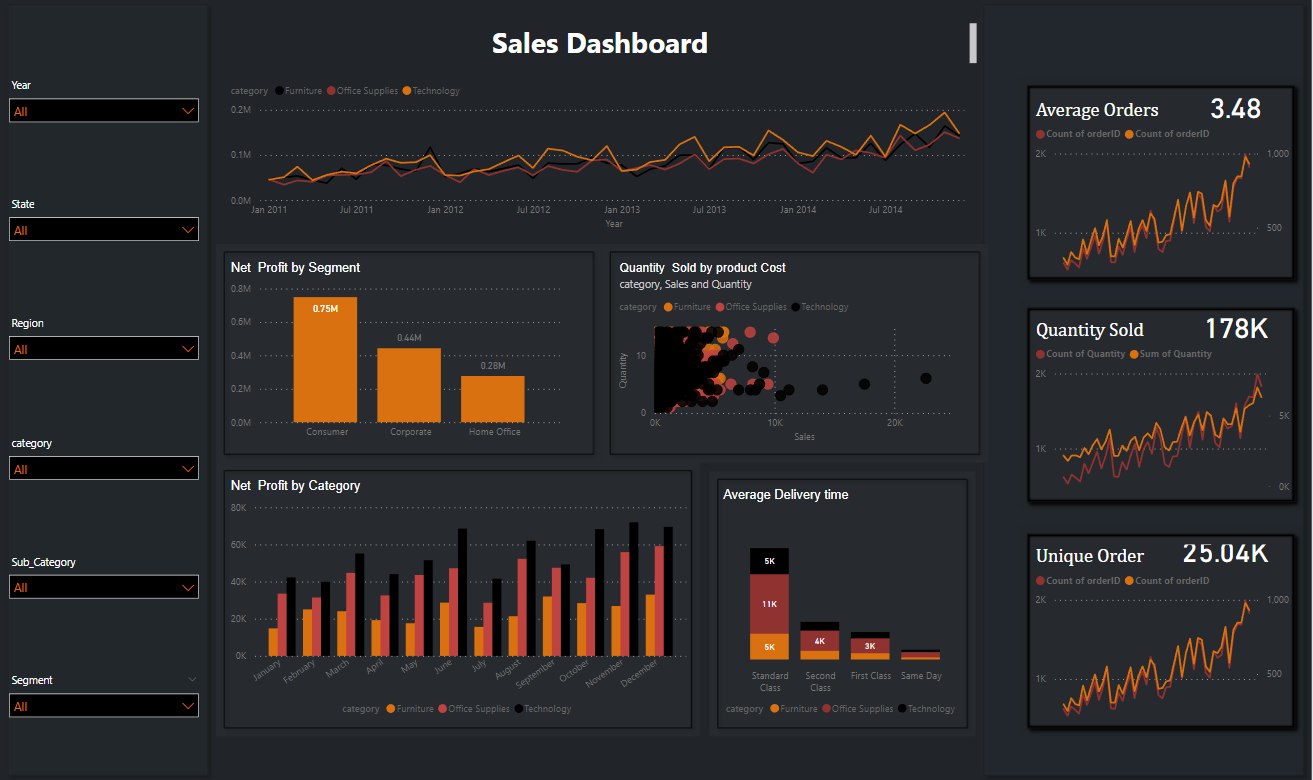

Layout of this report page (visuals, bound fields, positions):
{"tool":"powerbi","page":{"name":"Page 1","canvas":[1500,900],"ordinal":0},"visuals":[{"type":"textbox","box":[258.6,22.9,862.9,62.9],"z":0},{"type":"textbox","box":[258.6,291.4,300,51.4],"z":1000},{"type":"textbox","box":[258.6,541.4,300,51.4],"z":2000},{"type":"textbox","box":[702.9,291.4,300,51.4],"z":3000},{"type":"textbox","box":[821.4,551.4,300,51.4],"z":4000},{"type":"textbox","box":[1178.6,618.6,300,54.3],"z":5000},{"type":"textbox","box":[1178.6,360,300,54.3],"z":6000},{"type":"textbox","box":[1178.6,108.6,300,54.3],"z":7000},{"type":"columnChart","fields":{"Category":["Customer.Segment"],"Y":["Sum(FOrder.profit)"]},"box":[258.6,317.1,388.6,194.3],"z":8000},{"type":"lineClusteredColumnComboChart","fields":{"Category":["Data.orderDate.Variation.Date Hierarchy.Month"],"Y":["Sum(FOrder.profit)"],"Series":["product.category"]},"box":[258.6,567.1,531.4,261.4],"z":9000},{"type":"scatterChart","fields":{"Series":["product.category"],"Y":["FOrder.Quantity"],"X":["FOrder.Sales"]},"box":[702.9,317.1,401.4,194.3],"z":10000},{"type":"columnChart","fields":{"Category":["FOrder.ShipMode"],"Series":["product.category"],"Y":["FOrder.Count of orderID average per ShipMode"]},"box":[821.4,592.9,282.9,235.7],"z":11000},{"type":"lineChart","fields":{"Y":["CountNonNull(FOrder.orderID)"],"Y2":["Count(FOrder.orderID)"],"Category":["Data.orderDate.Variation.Date Hierarchy.Year","Data.orderDate.Variation.Date Hierarchy.Month"]},"box":[1178.6,645.7,300,182.9],"z":12000},{"type":"card","fields":{"Values":["Count(FOrder.orderID)"]},"box":[1322.9,618.6,155.7,42.9],"z":13000},{"type":"lineChart","fields":{"Y":["CountNonNull(FOrder.Quantity)"],"Y2":["Sum(FOrder.Quantity)"],"Category":["Data.orderDate.Variation.Date Hierarchy.Year","Data.orderDate.Variation.Date Hierarchy.Quarter","Data.orderDate.Variation.Date Hierarchy.Month"]},"box":[1178.6,387.1,300,182.9],"z":14000},{"type":"lineChart","fields":{"Y":["CountNonNull(FOrder.orderID)"],"Y2":["Count(FOrder.orderID)"],"Category":["Data.orderDate.Variation.Date Hierarchy.Year","Data.orderDate.Variation.Date Hierarchy.Quarter","Data.orderDate.Variation.Date Hierarchy.Month"]},"box":[1178.6,135.7,300,182.9],"z":15000},{"type":"card","fields":{"Values":["Sum(FOrder.Quantity)"]},"box":[1345.7,360,132.9,48.6],"z":16000},{"type":"card","fields":{"Values":["Avg(FOrder.Quantity)"]},"box":[1345.7,108.6,132.9,48.6],"z":17000},{"type":"slicer","fields":{"Values":["Data.Year"]},"box":[0,85.7,237.1,94.3],"z":18000},{"type":"slicer","fields":{"Values":["location.State"]},"box":[0,221.7,237.1,94.3],"z":19000},{"type":"slicer","fields":{"Values":["location.Region"]},"box":[0,357.7,237.1,94.3],"z":20000},{"type":"slicer","fields":{"Values":["product.category"]},"box":[0,493.7,237.1,94.3],"z":21000},{"type":"slicer","fields":{"Values":["product.Sub_Category"]},"box":[0,629.7,237.1,94.3],"z":22000},{"type":"slicer","fields":{"Values":["Customer.Segment"]},"box":[0,765.7,237.1,94.3],"z":23000},{"type":"lineChart","fields":{"Y":["Sum(FOrder.Sales)"],"Series":["product.category"],"Category":["Data.orderDate.Variation.Date Hierarchy.Year","Data.orderDate.Variation.Date Hierarchy.Quarter","Data.orderDate.Variation.Date Hierarchy.Month"]},"box":[258.6,85.7,862.9,182.9],"z":24000}]}

Visuals, with their boxes in screenshot pixels (x1, y1, x2, y2), scaled from the page's 1500x900 canvas onto the 1313x780 screenshot:
textbox: l=226, t=20, r=982, b=74
textbox: l=226, t=253, r=489, b=297
textbox: l=226, t=469, r=489, b=514
textbox: l=615, t=253, r=878, b=297
textbox: l=719, t=478, r=982, b=522
textbox: l=1032, t=536, r=1294, b=583
textbox: l=1032, t=312, r=1294, b=359
textbox: l=1032, t=94, r=1294, b=141
columnChart - Customer.Segment x Sum(FOrder.profit): l=226, t=275, r=567, b=443
lineClusteredColumnComboChart - Data.orderDate.Variation.Date Hierarchy.Month x Sum(FOrder.profit): l=226, t=491, r=692, b=718
scatterChart - product.category x FOrder.Quantity: l=615, t=275, r=967, b=443
columnChart - FOrder.ShipMode x product.category: l=719, t=514, r=967, b=718
lineChart - CountNonNull(FOrder.orderID) x Count(FOrder.orderID): l=1032, t=560, r=1294, b=718
card - Count(FOrder.orderID): l=1158, t=536, r=1294, b=573
lineChart - CountNonNull(FOrder.Quantity) x Sum(FOrder.Quantity): l=1032, t=335, r=1294, b=494
lineChart - CountNonNull(FOrder.orderID) x Count(FOrder.orderID): l=1032, t=118, r=1294, b=276
card - Sum(FOrder.Quantity): l=1178, t=312, r=1294, b=354
card - Avg(FOrder.Quantity): l=1178, t=94, r=1294, b=136
slicer - Data.Year: l=0, t=74, r=208, b=156
slicer - location.State: l=0, t=192, r=208, b=274
slicer - location.Region: l=0, t=310, r=208, b=392
slicer - product.category: l=0, t=428, r=208, b=510
slicer - product.Sub_Category: l=0, t=546, r=208, b=627
slicer - Customer.Segment: l=0, t=664, r=208, b=745
lineChart - Sum(FOrder.Sales) x product.category: l=226, t=74, r=982, b=233
